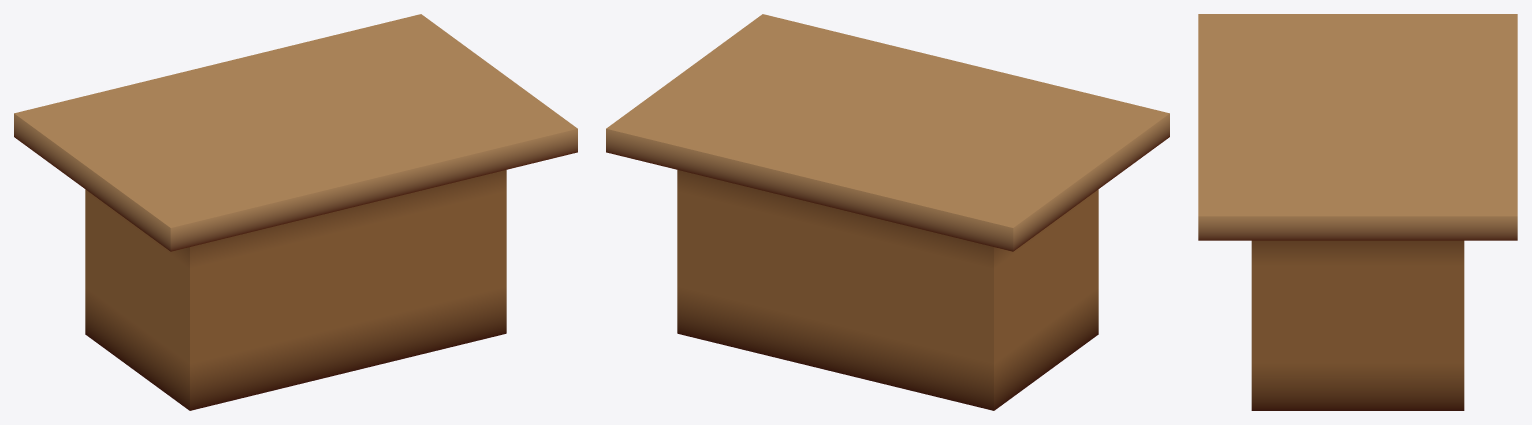
Rendered from desk_00.gltf.
3 renders of one model, left to right at view 1: azimuth 30°, elevation 25°; view 2: azimuth 150°, elevation 25°; view 3: azimuth 270°, elevation 25°, orthographic.
Size of the model in its own units: 9 by 4.5 by 6.
1 material, 1 textured.
